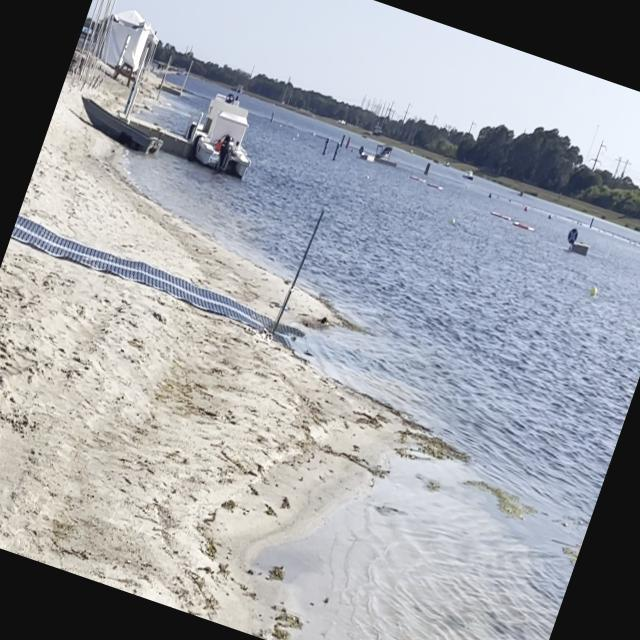buoy: (590, 286, 598, 296), (449, 216, 456, 225), (523, 206, 528, 212)
